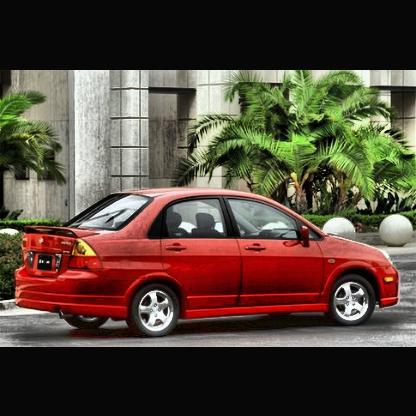Suzuki Aerio Sedan 2007: (17, 186, 402, 339)
